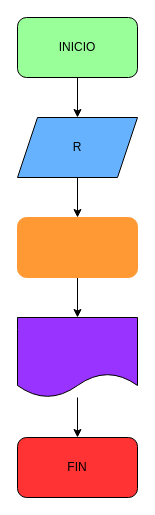
The diagram is 155 pixels wide and 515 high, and some of its shapes have lost their labels. Here are the shapes that lost their labels. From the top down, the box of each, then its label:
(16, 216, 138, 278): A = PI*R2 P = 2PI*R
(16, 316, 138, 398): A*P
